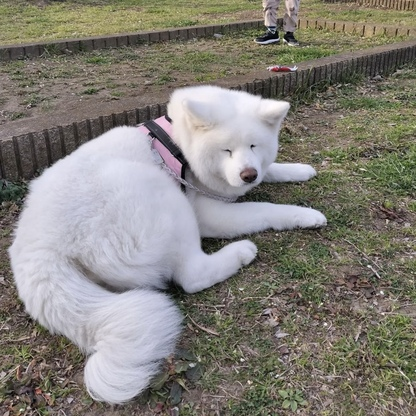akita: (6, 81, 331, 408)
